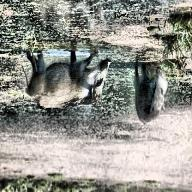boar: (16, 47, 110, 115), (130, 53, 174, 122)
